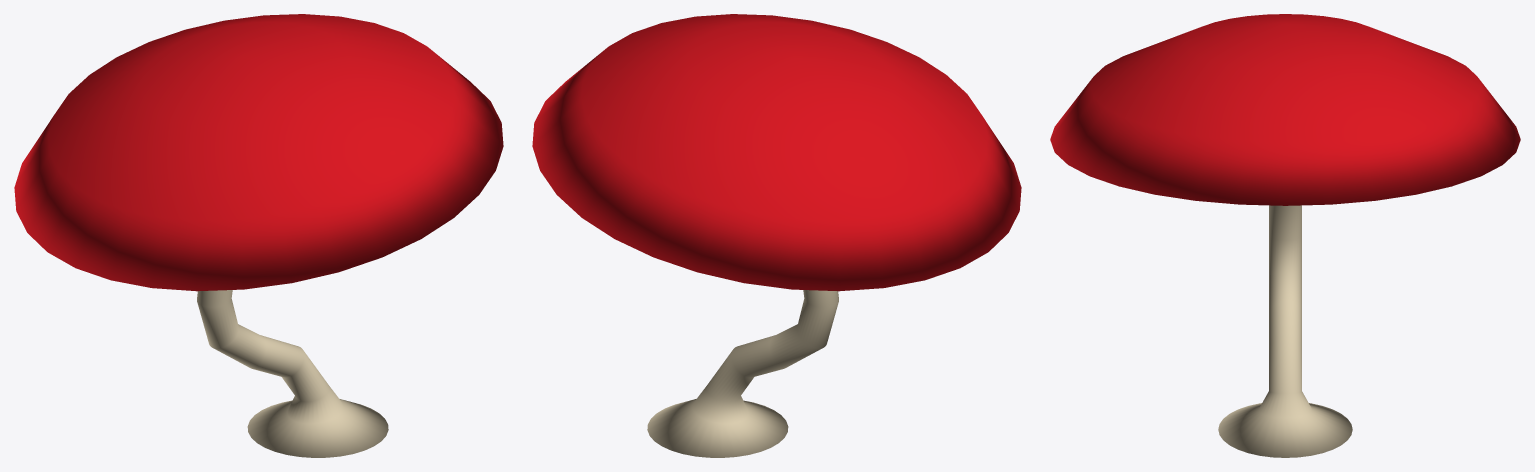
The model's file is champi35.fbx.
The picture shows the model from 3 angles, left to right: view 1: azimuth 30°, elevation 25°; view 2: azimuth 150°, elevation 25°; view 3: azimuth 270°, elevation 25°; orthographic projection. The views are drawn at different scales.
Visible parts, largest first — view 1: Cone; view 2: Cone; view 3: Cone.
Boxes of the visible parts, x1=… form: Cone: x1=14, y1=14, x2=503, y2=457; Cone: x1=532, y1=14, x2=1021, y2=457; Cone: x1=1050, y1=14, x2=1520, y2=457.
Size of the model in its own units: 79.09 by 69.49 by 80.
